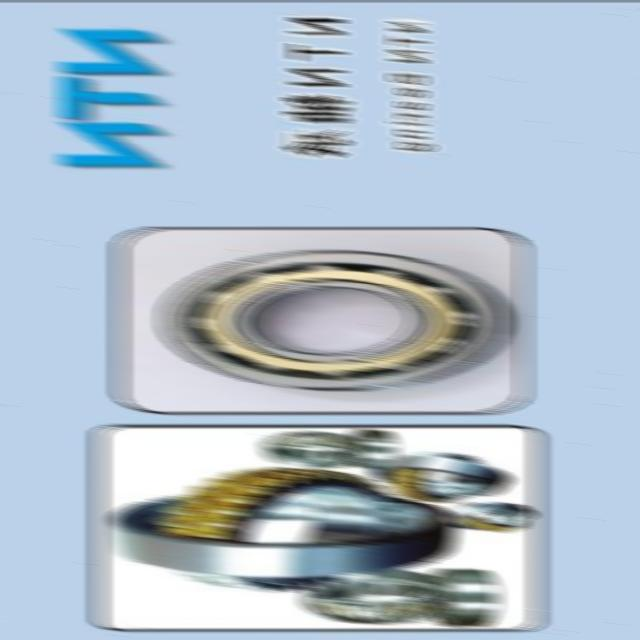Bearing: (155, 246, 513, 394), (105, 463, 456, 593), (298, 568, 450, 624), (368, 448, 512, 502), (258, 426, 365, 469), (429, 565, 498, 627), (444, 498, 534, 532), (349, 430, 398, 468)
